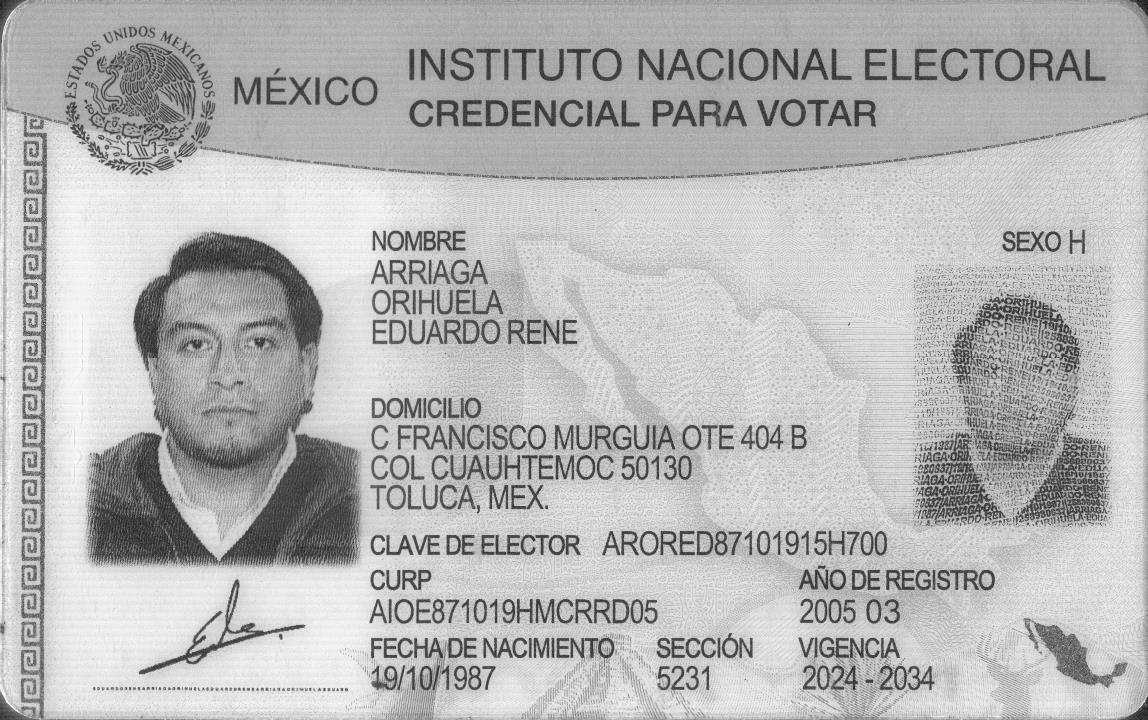ESCUDO: (65, 26, 216, 176)
MAPA: (1023, 617, 1128, 688)
PALABRA: (864, 47, 1107, 81)
